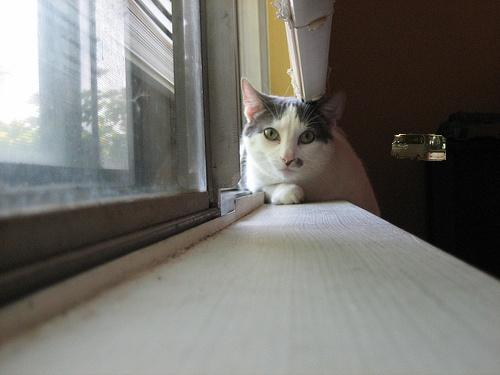tampered: (392, 134, 446, 161)
